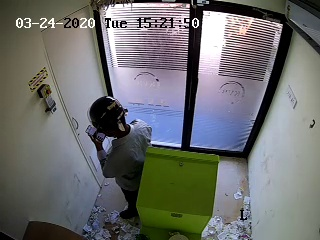helmet: (81, 96, 134, 141)
